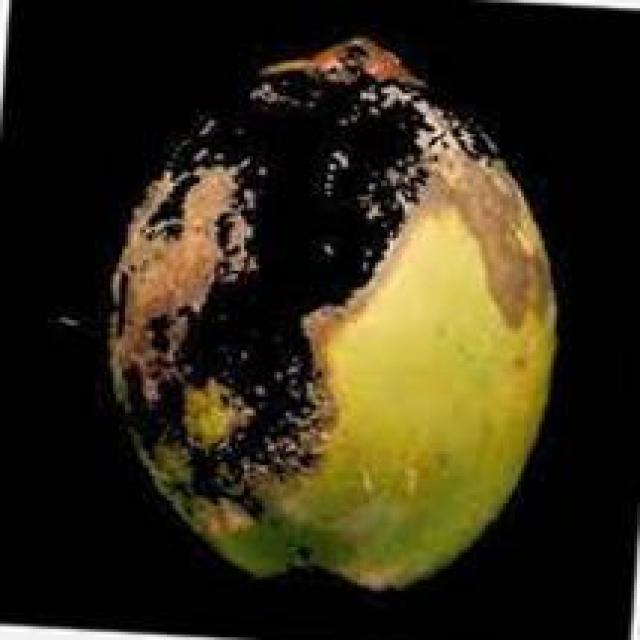damaged: (101, 38, 554, 594)
